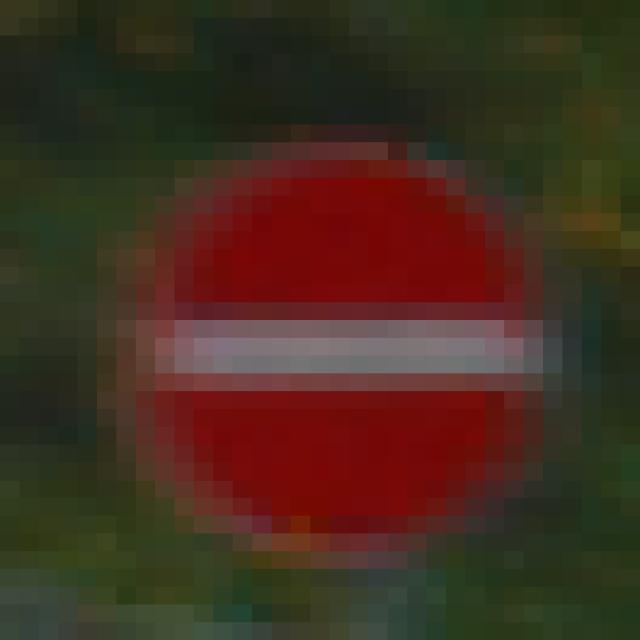No Entry: (117, 108, 525, 552)
